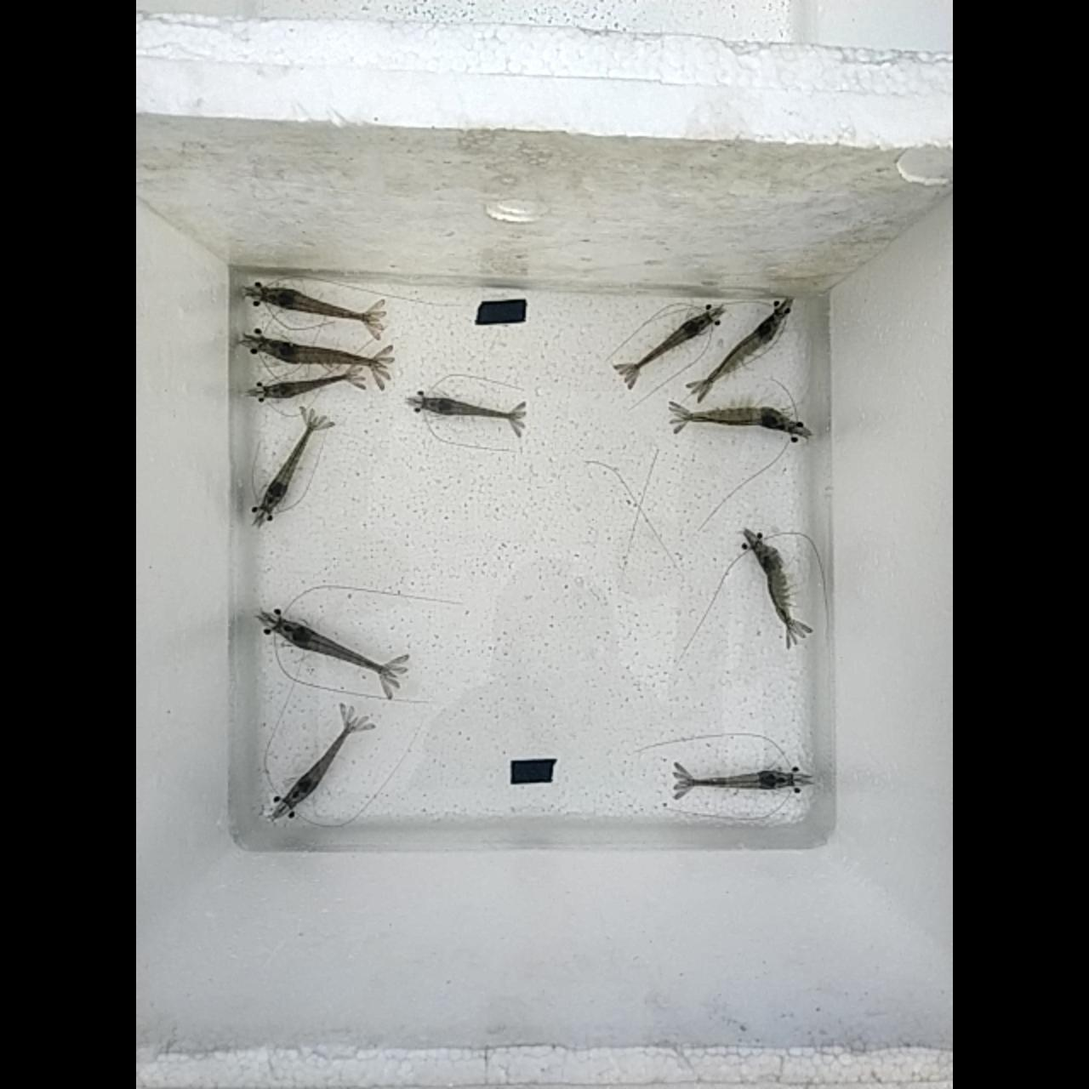box: (478, 298, 526, 325), (512, 759, 555, 781)
side_shrimp: (756, 543, 803, 639)
top_shrimp: (696, 308, 784, 391), (279, 621, 388, 676), (286, 721, 352, 805), (628, 315, 711, 373), (260, 422, 311, 509), (260, 286, 366, 320), (257, 339, 378, 366), (681, 408, 795, 430), (425, 396, 514, 419), (264, 374, 345, 396), (686, 773, 793, 788)
